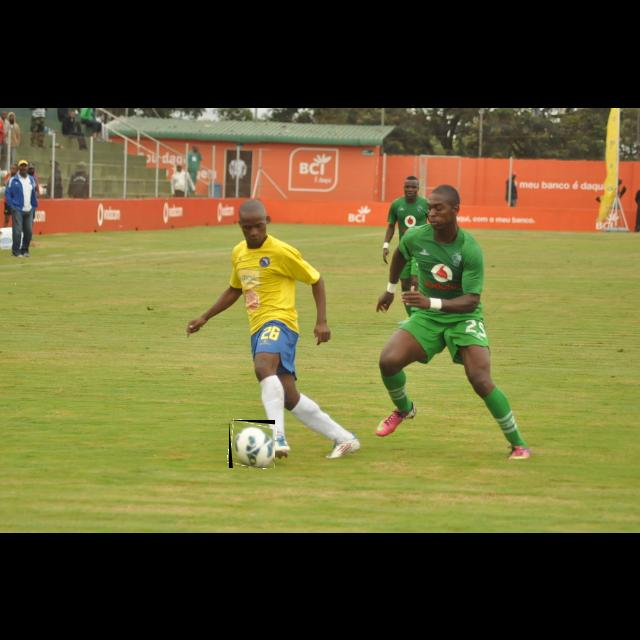Football: (229, 420, 275, 468)
